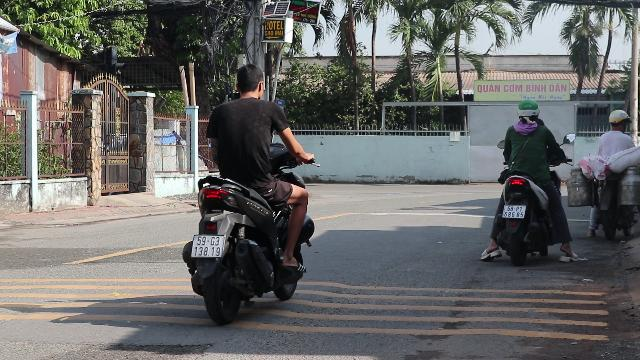helmet: (515, 98, 539, 122), (607, 108, 629, 130)
licenseplate: (192, 236, 224, 256), (502, 204, 526, 218)
motorcyclist: (178, 63, 318, 322), (486, 96, 572, 264), (589, 108, 639, 240)
nohelmet: (233, 64, 265, 98)
